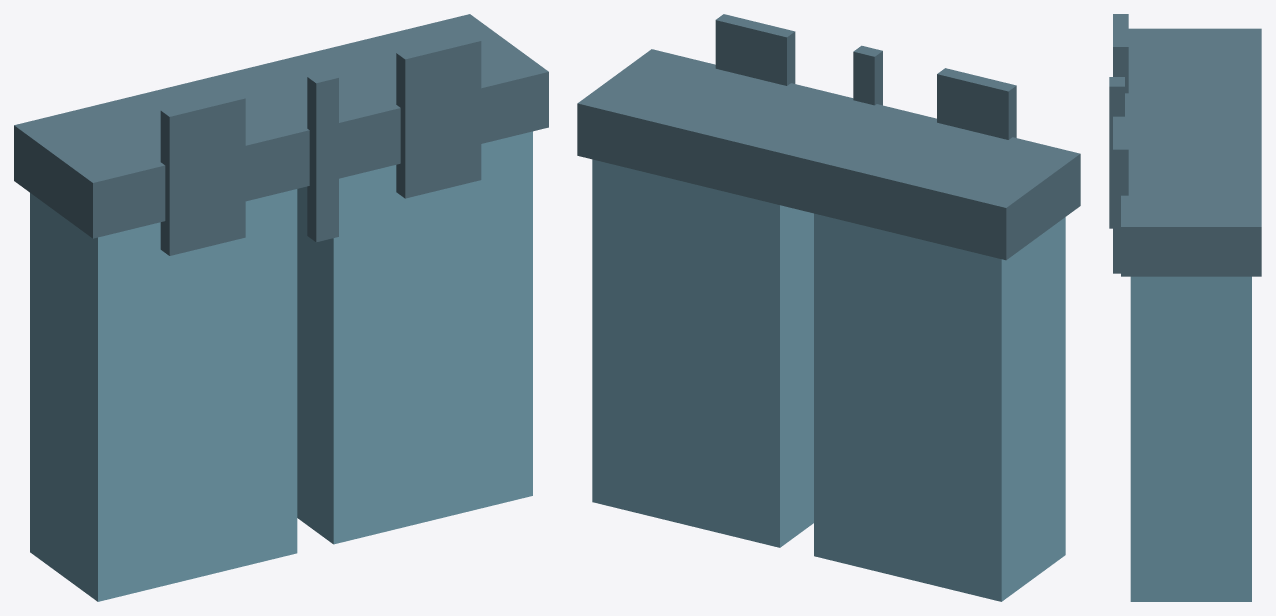
File: shorts.glb
3 views of the same model, side by side, from view 1: azimuth 30°, elevation 25°; view 2: azimuth 150°, elevation 25°; view 3: azimuth 270°, elevation 25° (orthographic). The views are drawn at different scales.
Visible parts, largest first — view 1: shorts-1, shorts-2, shorts-0, shorts-4, shorts-3, shorts-5; view 2: shorts-1, shorts-2, shorts-0, shorts-4, shorts-3, shorts-5; view 3: shorts-2, shorts-0, shorts-4, shorts-5, shorts-3.
Part boxes in pixels (bbox=[...]): shorts-1: bbox=[30, 189, 297, 601]; shorts-2: bbox=[297, 131, 532, 544]; shorts-0: bbox=[14, 14, 548, 238]; shorts-4: bbox=[396, 34, 481, 198]; shorts-3: bbox=[160, 92, 245, 255]; shorts-5: bbox=[307, 71, 338, 242]; shorts-1: bbox=[814, 213, 1065, 601]; shorts-2: bbox=[592, 159, 813, 547]; shorts-0: bbox=[577, 49, 1080, 260]; shorts-4: bbox=[715, 14, 795, 85]; shorts-3: bbox=[937, 68, 1016, 139]; shorts-5: bbox=[853, 45, 882, 105]; shorts-2: bbox=[1130, 276, 1251, 601]; shorts-0: bbox=[1121, 28, 1261, 276]; shorts-4: bbox=[1113, 116, 1128, 273]; shorts-5: bbox=[1109, 77, 1124, 228]; shorts-3: bbox=[1113, 14, 1128, 93].
Size of the model in its own units: 2.4 by 2.4 by 0.78.
